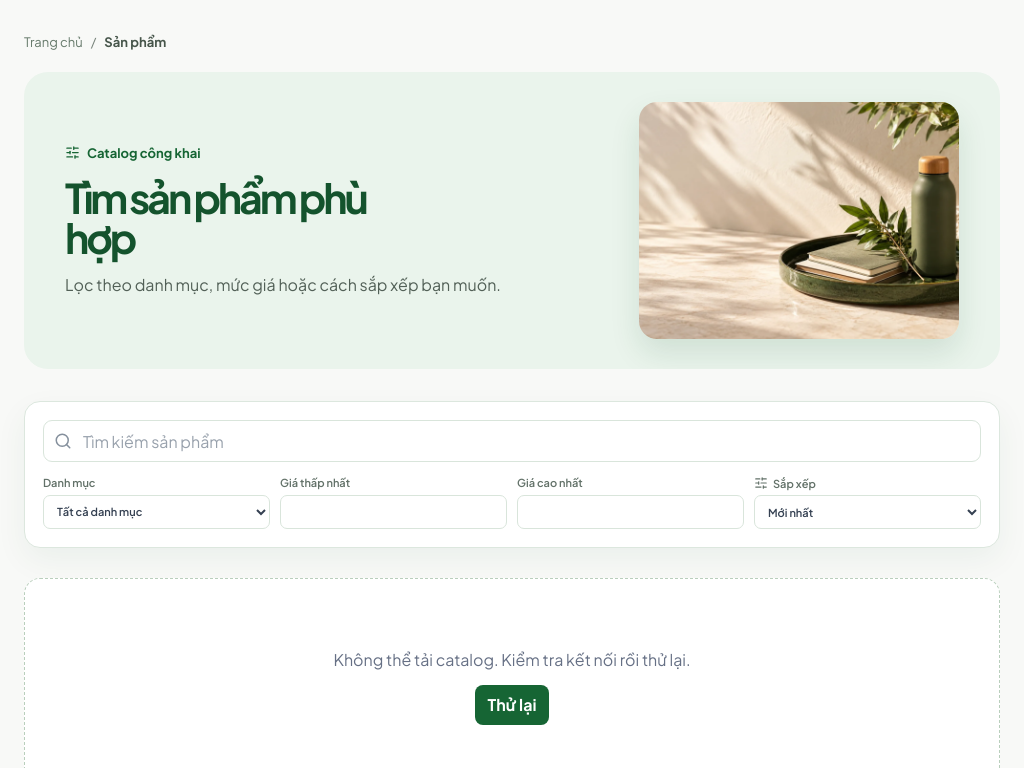
Test: StorefrontShopPage: default order uses the cursor API › first-page failure shows the catalog error and recovers on retry
The image size is (1024, 768).
Expected: the text "Không thể tải catalog. Kiểm tra kết nối rồi thử lại." is shown, [333,647,691,673]
What coordinates should you click on to do the following:
click the button "Thử lại"
I would click on:
 (512, 705)
Its box is [474,685,549,725].
(page scrolled)
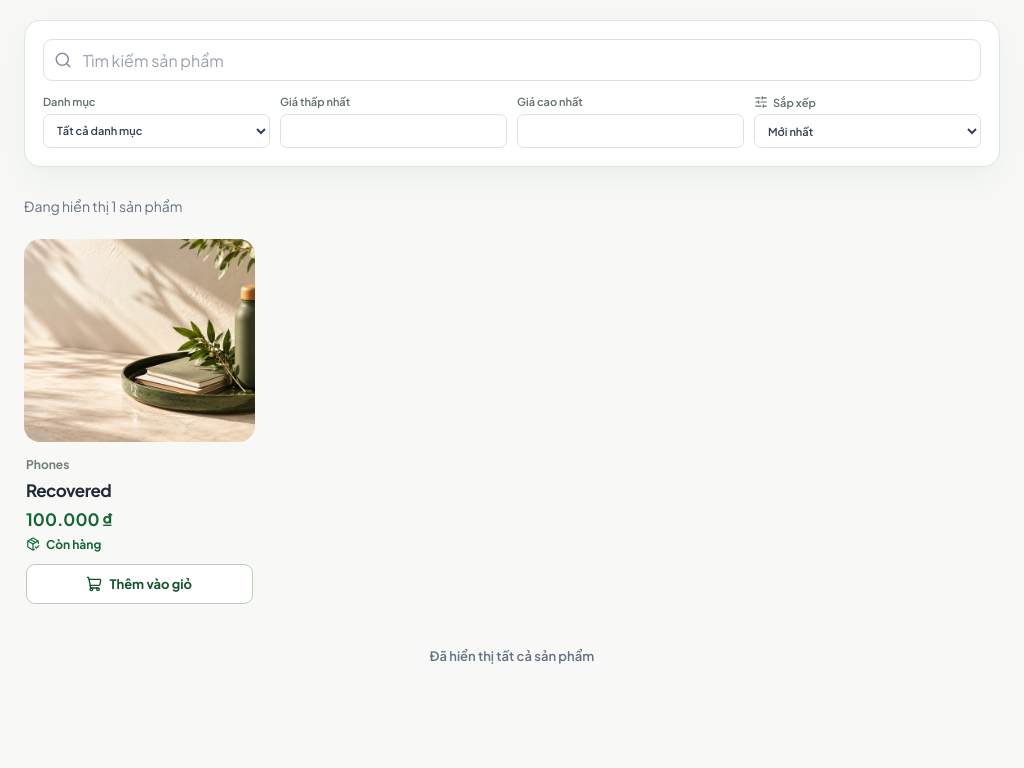
Result: the link "Recovered" is shown at [26,479,111,501]
